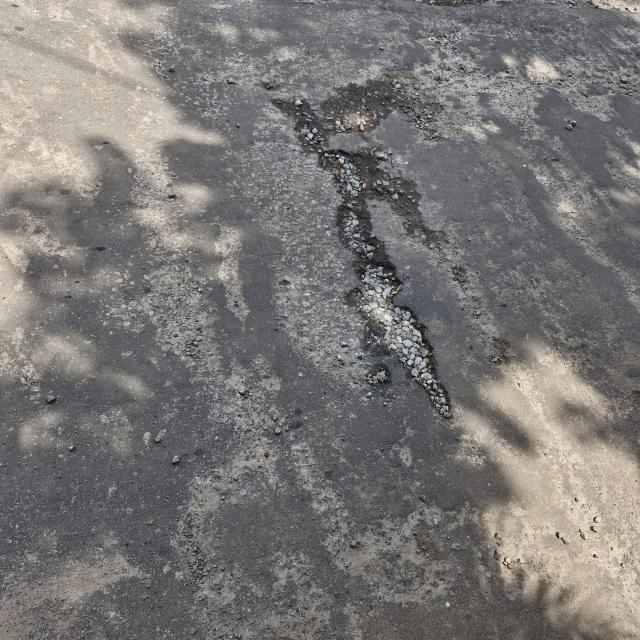pothole: (345, 264, 455, 419), (260, 78, 430, 150), (322, 152, 389, 262), (390, 170, 426, 241)
